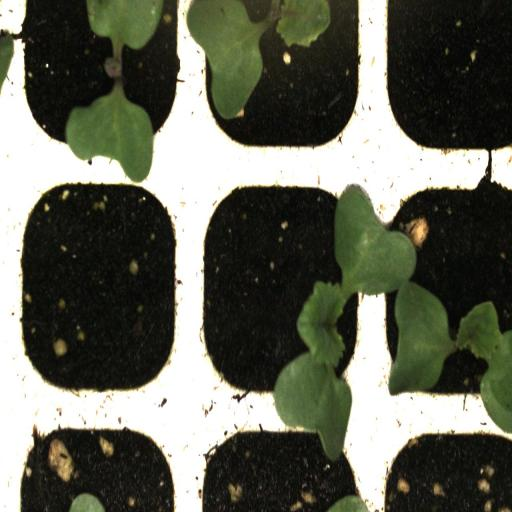noseedling: (5, 174, 194, 410), (376, 0, 512, 164)
seedling: (195, 175, 374, 412), (374, 168, 512, 413), (8, 0, 196, 170), (195, 0, 374, 164)
